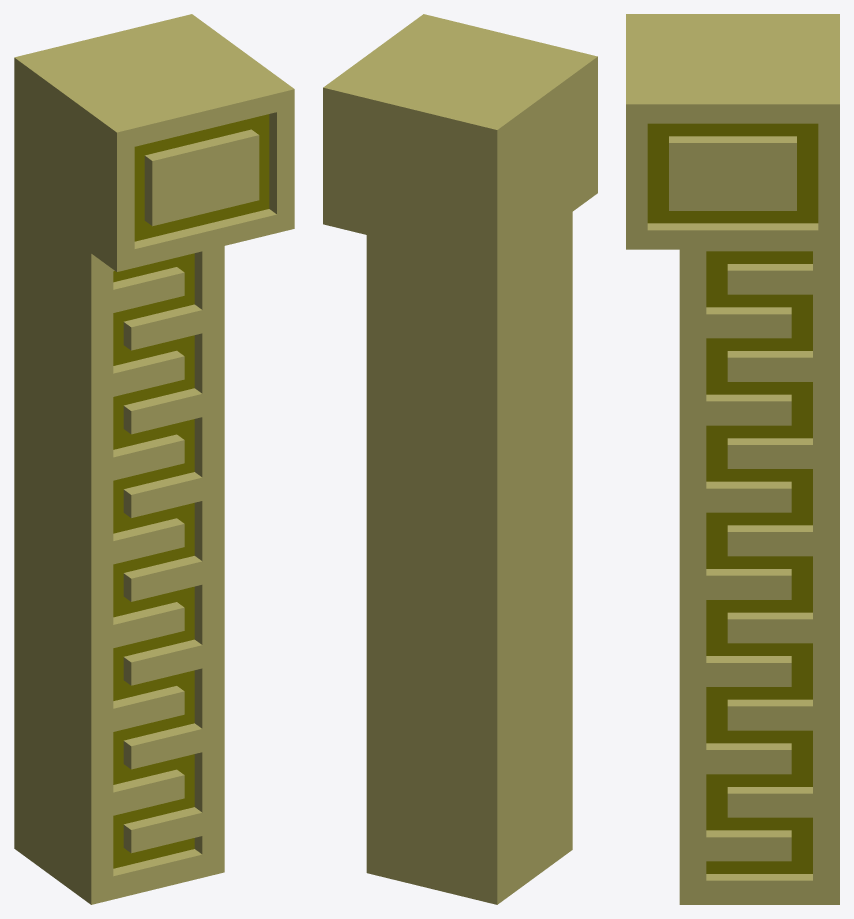
The model's file is Prop_Jungle_Temple_Pillar_Column_Markings_01.FBX.
The picture shows the model from 3 angles, left to right: view 1: azimuth 30°, elevation 25°; view 2: azimuth 150°, elevation 25°; view 3: azimuth 270°, elevation 25°; orthographic projection. The views are drawn at different scales.
Parts seen in each view (by area): view 1: Prop_Jungle_Temple_Pillar_Column_Markings_01; view 2: Prop_Jungle_Temple_Pillar_Column_Markings_01; view 3: Prop_Jungle_Temple_Pillar_Column_Markings_01.
Boxes of the visible parts, x1,y1,x2,y2 form: Prop_Jungle_Temple_Pillar_Column_Markings_01: [14, 14, 294, 904]; Prop_Jungle_Temple_Pillar_Column_Markings_01: [323, 14, 597, 904]; Prop_Jungle_Temple_Pillar_Column_Markings_01: [626, 14, 839, 904].
Bounding box in the file's own units: 1135 × 4823 × 1135.
